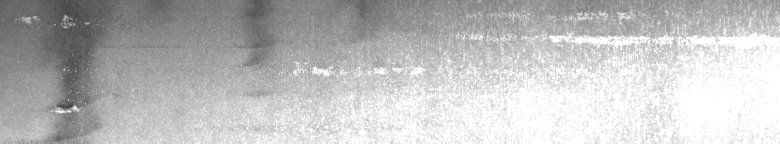hc: (15, 8, 95, 118)
